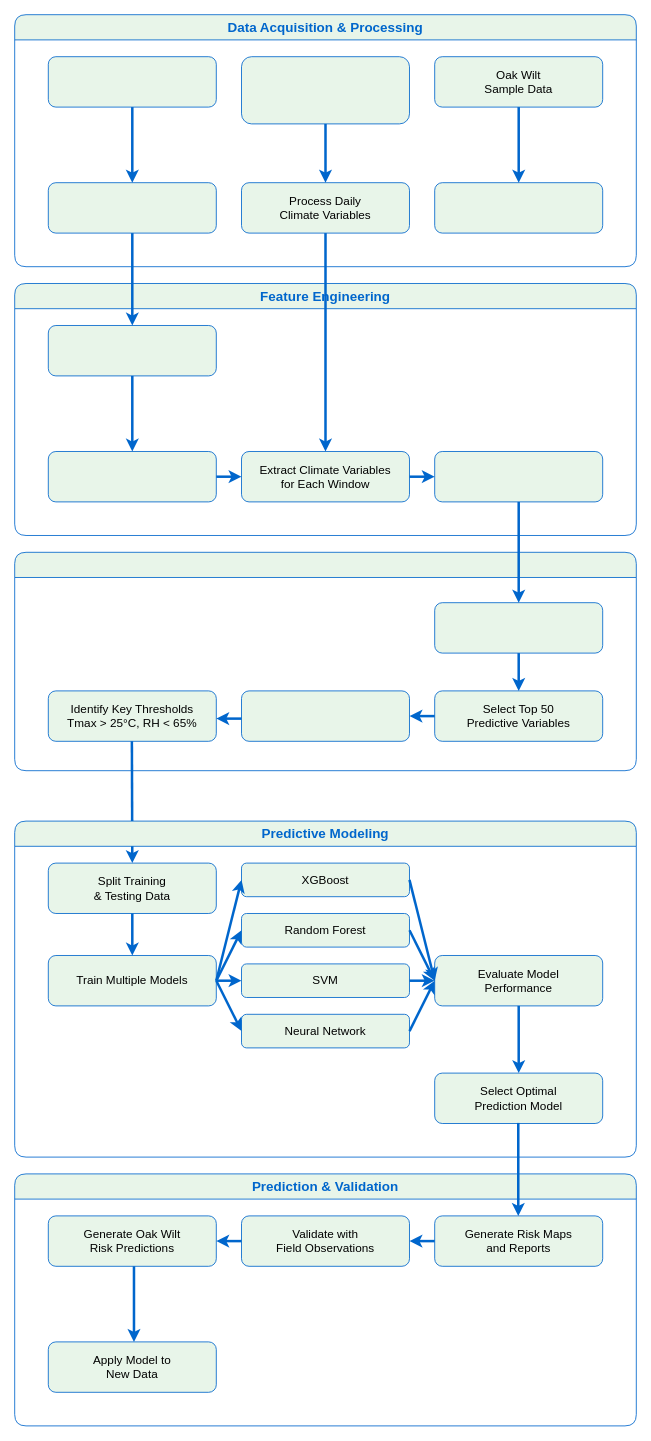
Image size: 651x1441. Some labels were removed from this diagram. Here are the shapes that lost their labels. From the top down, the box of each, then its label:
(47, 56, 216, 107): Remote Sensing Data Sentinel-2 Imagery
(241, 56, 410, 124): Climate Data Temperature, Humidity, Wind, Precipitation
(47, 182, 216, 233): Extract NDVI Time Series
(434, 182, 603, 233): Prepare Reference Dataset
(47, 325, 216, 376): Estimate Start of Season SOS Detection
(47, 451, 216, 502): Calculate SOS-Relative Temporal Windows
(434, 451, 603, 502): Generate Additional Features Consecutive Hot Days Low Humidity Days
(434, 602, 603, 653): Ensemble Variable Importance Analysis
(14, 551, 636, 771): Feature Selection & Analysis
(241, 690, 410, 741): CART Regression Tree Analysis
